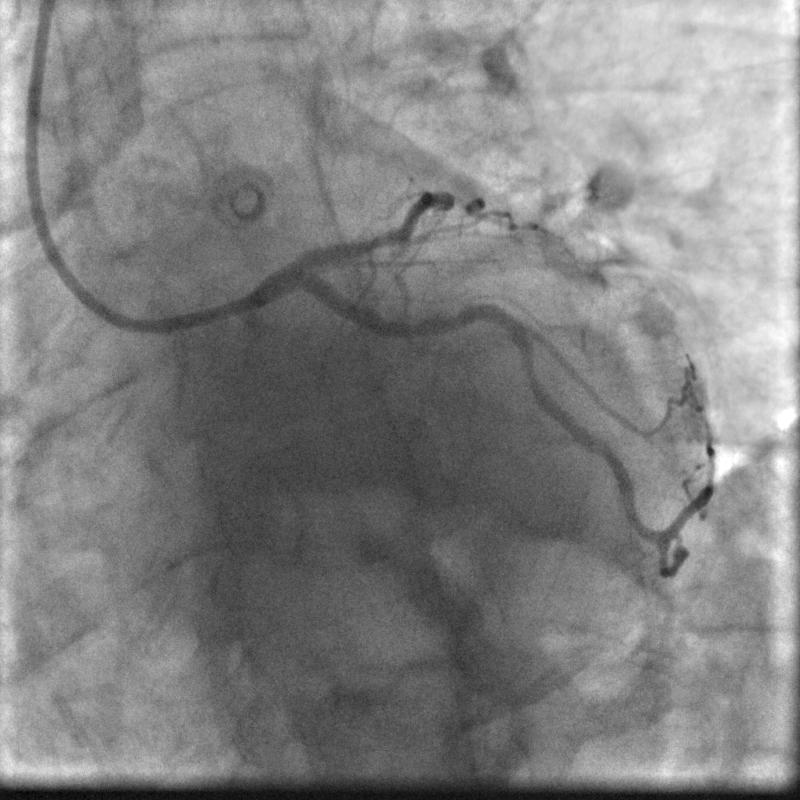Stenosis: (523, 361, 537, 383)
